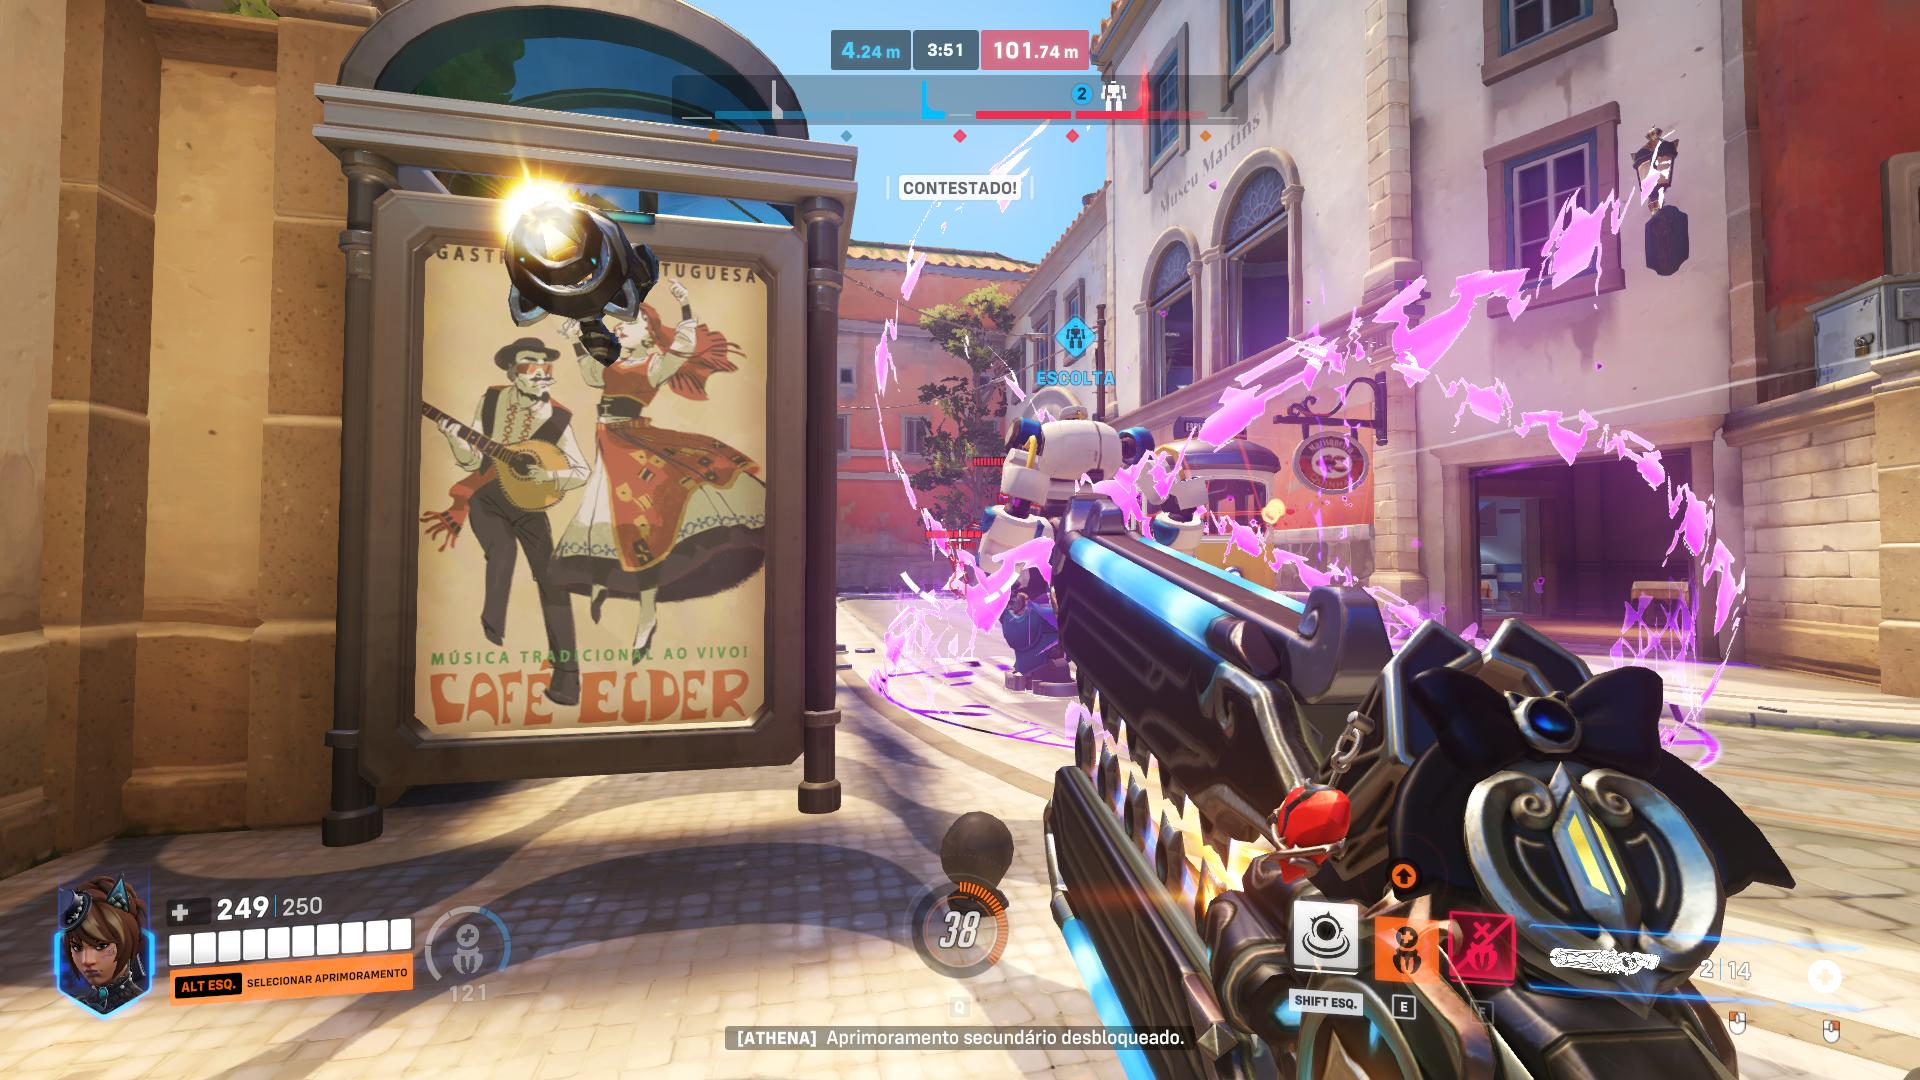enemy: (948, 554, 969, 600)
